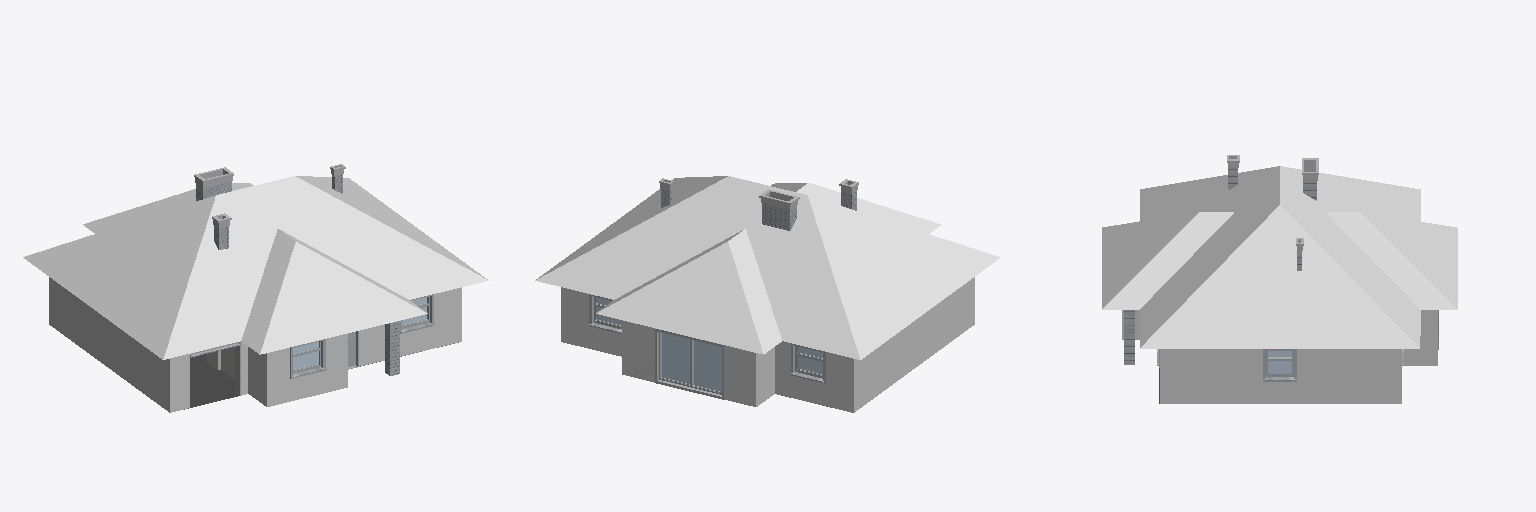
3 views of the same model, side by side, from view 1: azimuth 30°, elevation 25°; view 2: azimuth 150°, elevation 25°; view 3: azimuth 270°, elevation 25° (orthographic).
Visible parts, largest first — view 1: casa1; view 2: casa1; view 3: casa1.
Boxes of the visible parts, x1=… form: casa1: x1=23, y1=164, x2=488, y2=412; casa1: x1=535, y1=176, x2=1000, y2=412; casa1: x1=1102, y1=155, x2=1457, y2=403.
Bounding box in the file's own units: 14.65 × 6.63 × 13.85.
10 materials, 4 textured.